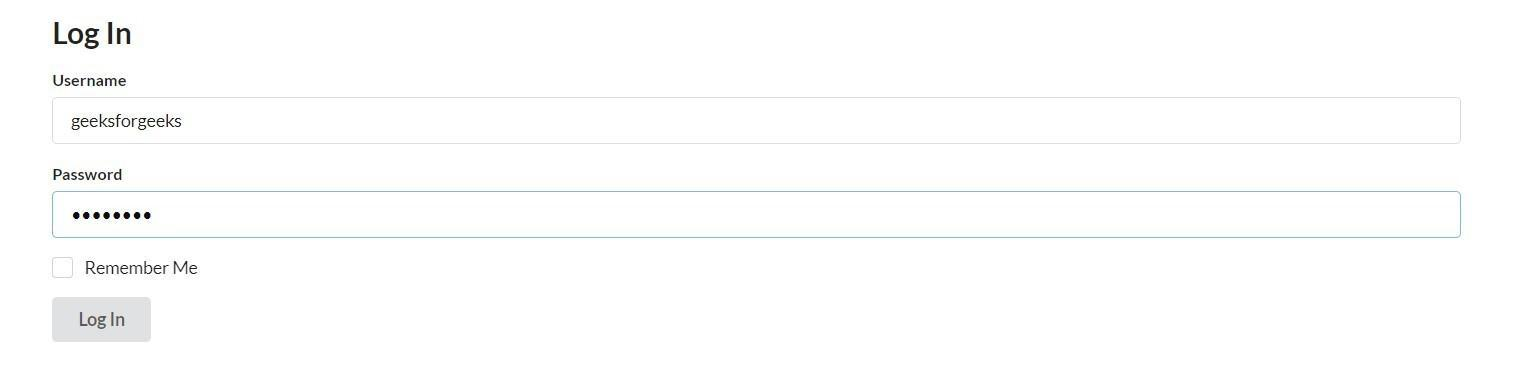button: (50, 295, 156, 346)
checkbox: (50, 257, 76, 280)
input: (51, 191, 1463, 241), (52, 97, 1464, 145)
label: (83, 257, 203, 281), (50, 164, 127, 188), (51, 71, 131, 93)
